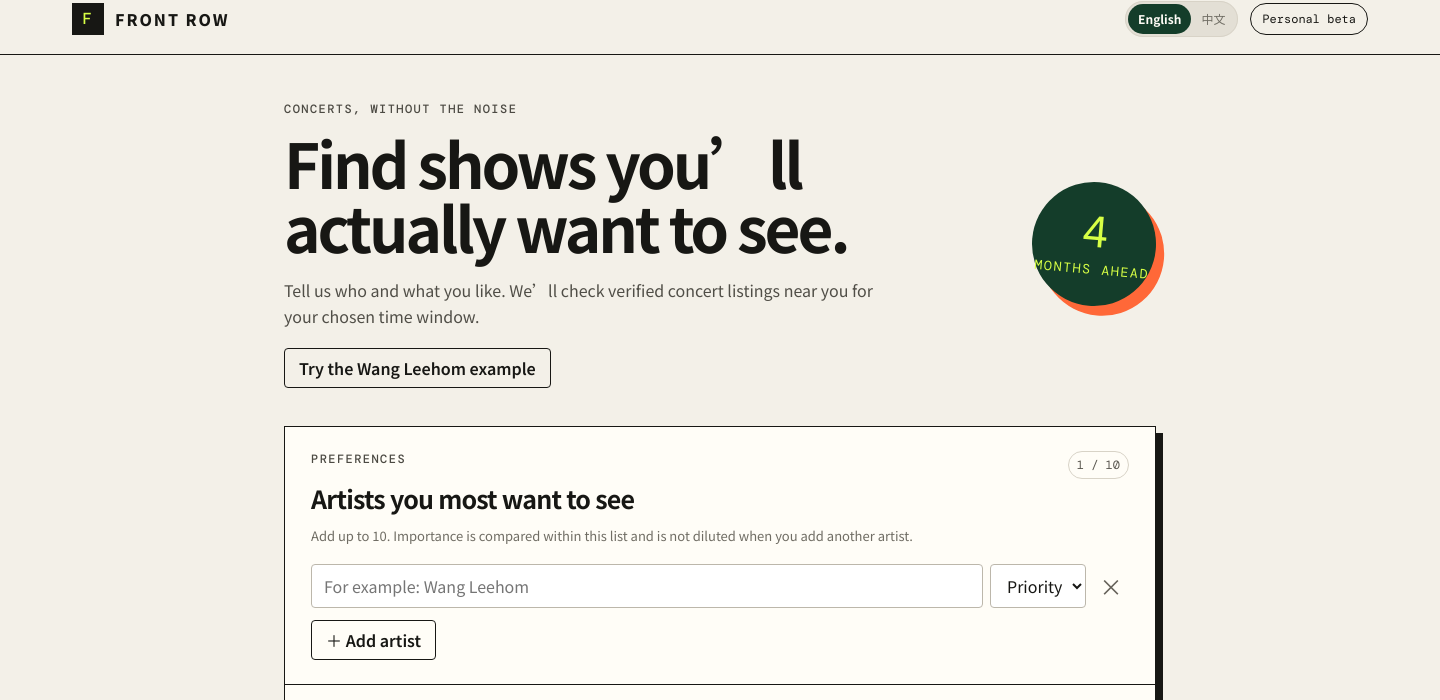
simple preference form › shows the truthful result funnel supported by the current API
Click the button "Try the Wang Leehom example": (417, 368) [284,348,551,388]
(page scrolled)
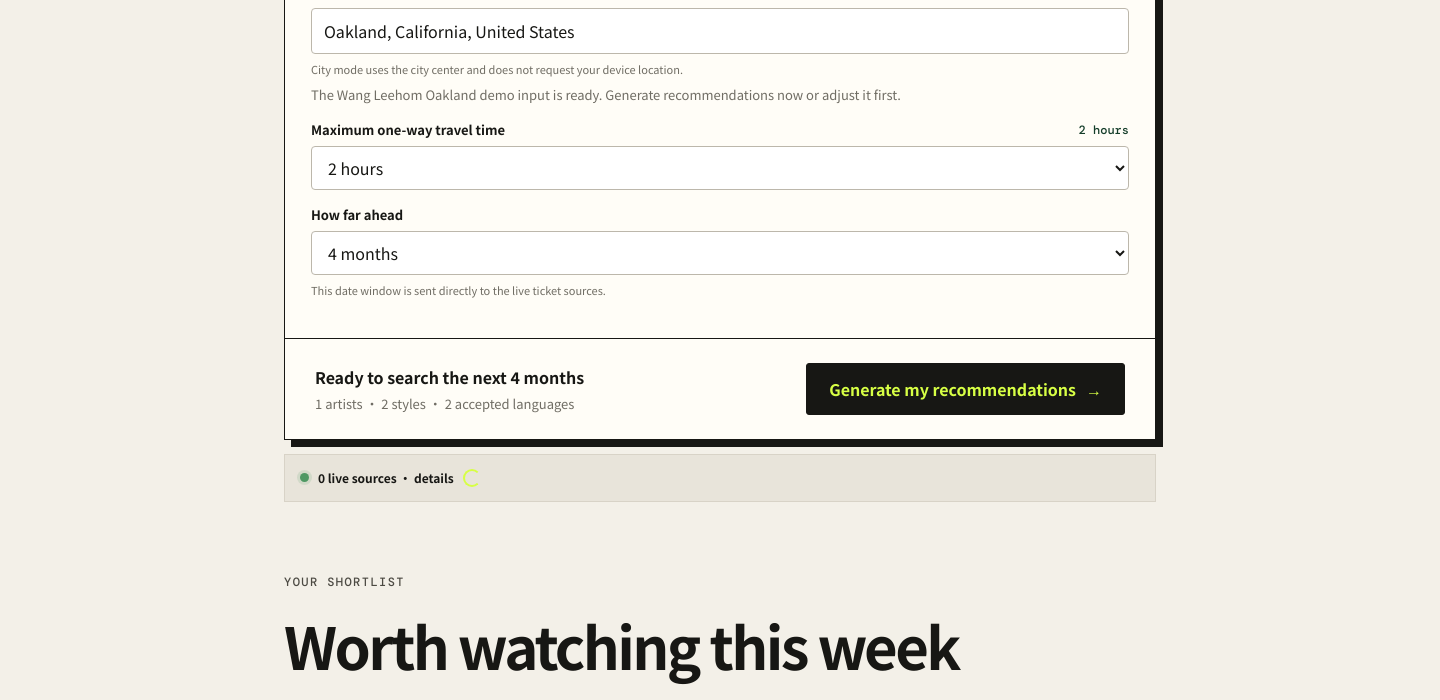
Click the button "Generate my recommendations →": (966, 389) [806,363,1125,415]
(page scrolled)
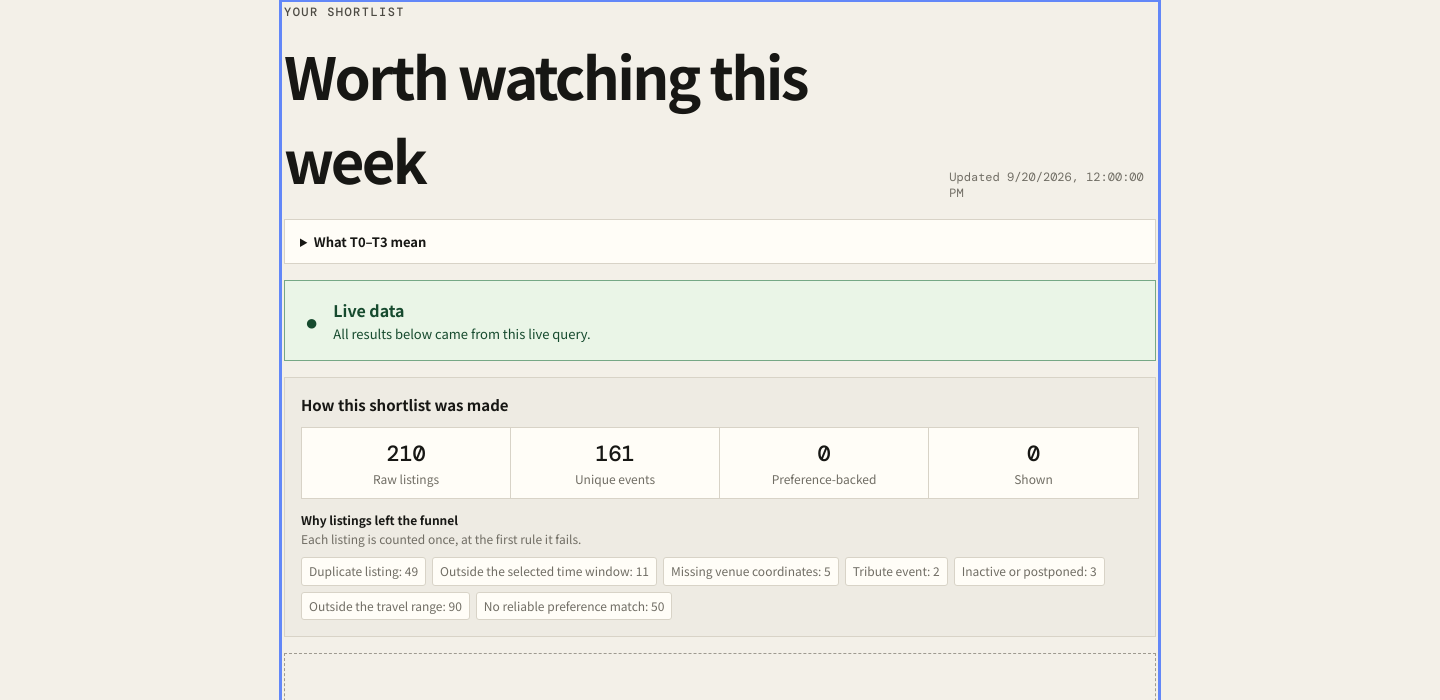
Expected: the text "210" is shown, [386,439,426,468]
Expected: the text "161" is shown, [595,439,635,468]
Expected: the text "Preference-backed" is shown, [772,470,876,487]
